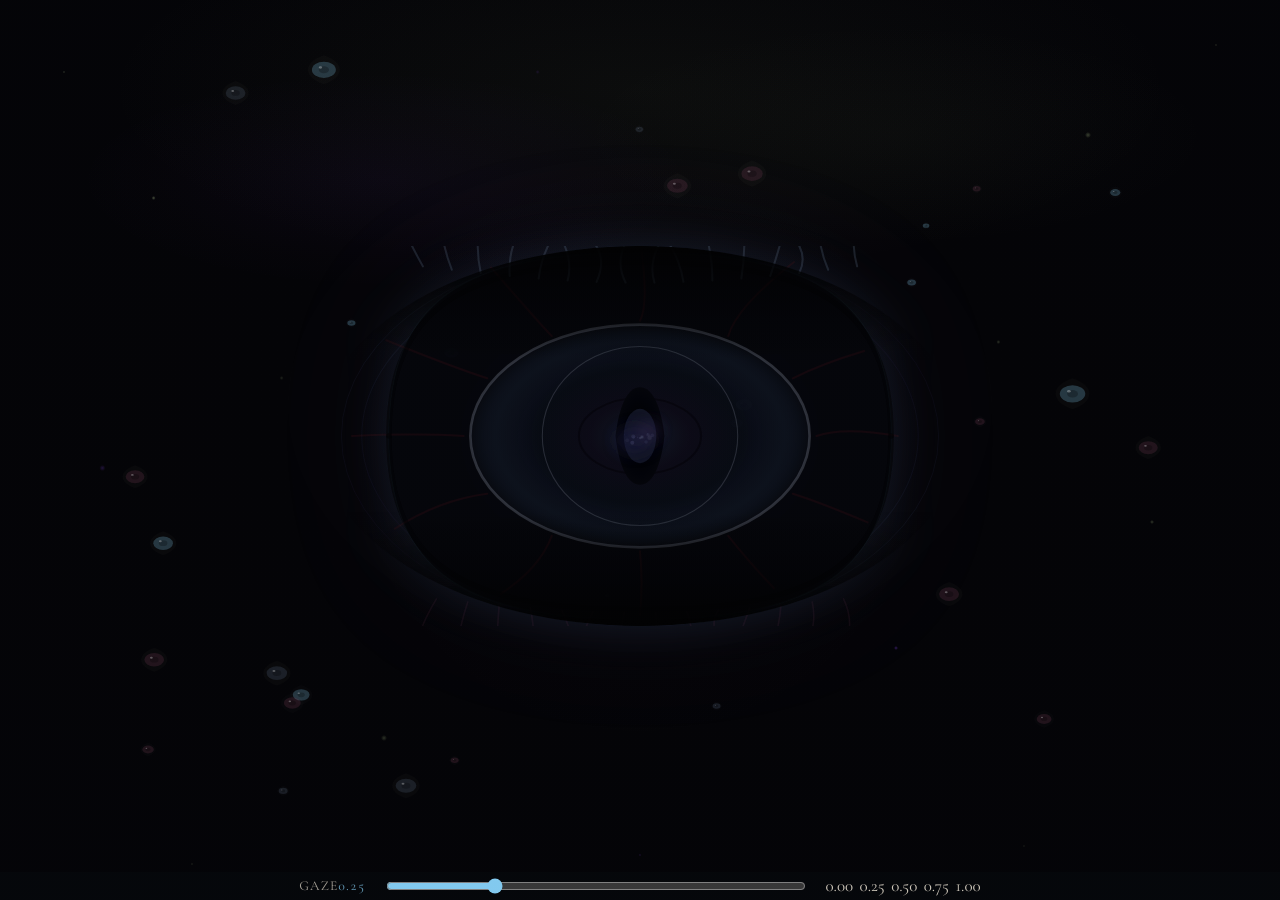
Scenario: GazePreview fixture › updates the eye when a band button is clicked
Click the button "0.50" at (904, 886), box x1=891 y1=872 x2=917 y2=899
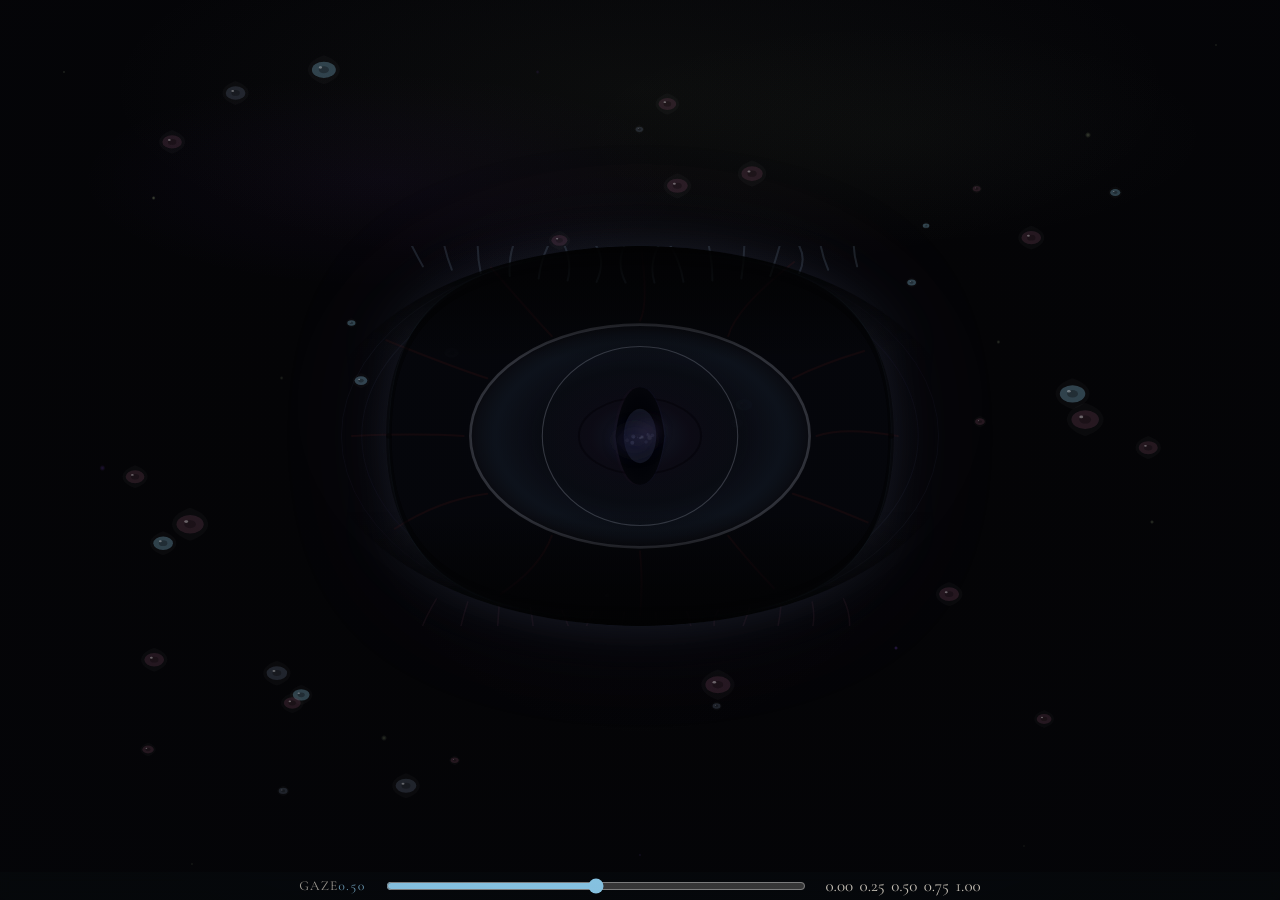
Expected: the slider named "Gaze intensity" holds "0.5", x1=386 y1=878 x2=806 y2=894
